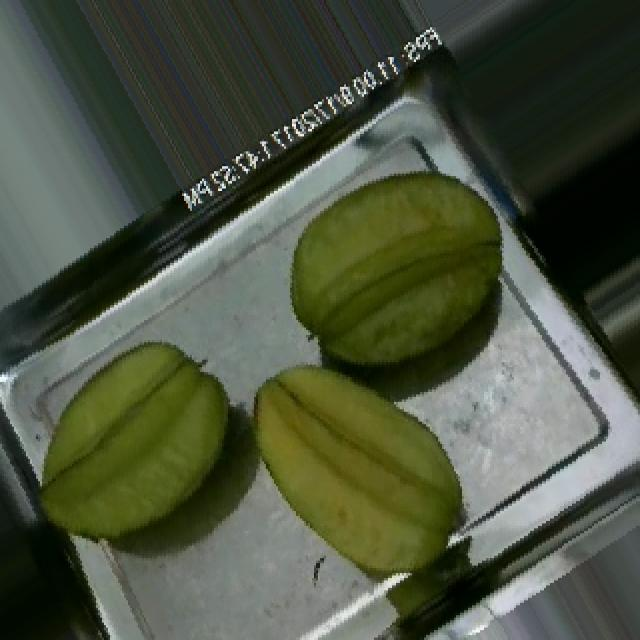fruit: (192, 318, 506, 625), (238, 132, 548, 429), (2, 303, 280, 583)
